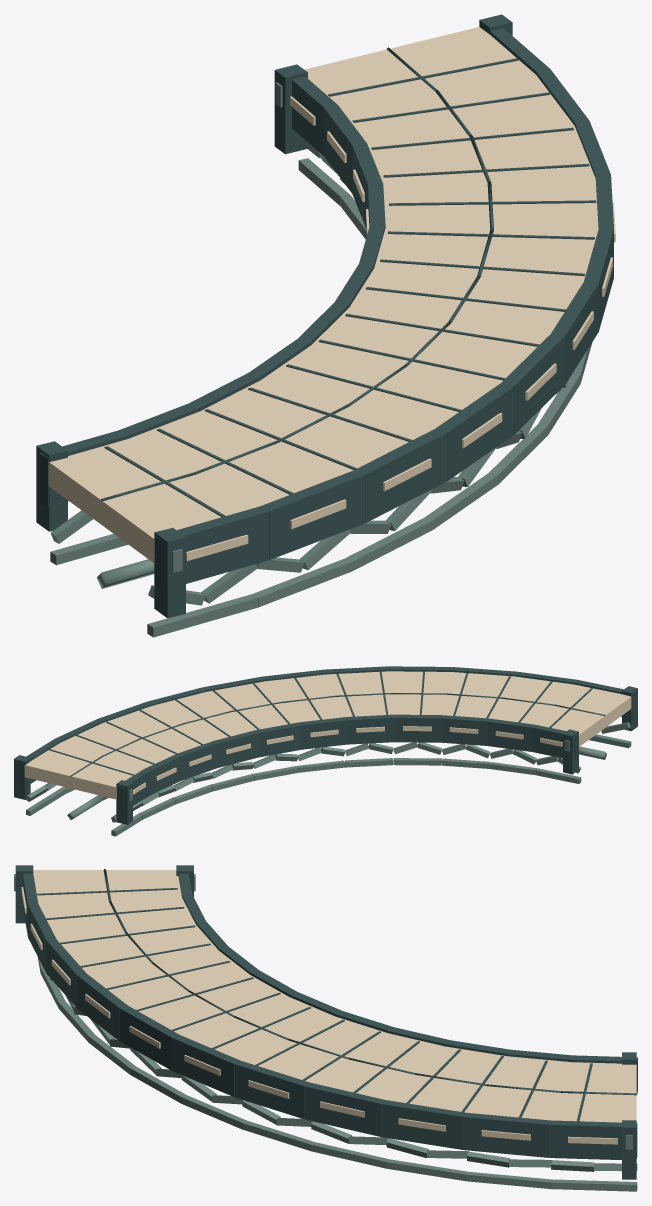
The model's file is Curve_W90_lab2.glb.
3 views of the same model, one above another, from view 1: azimuth 30°, elevation 25°; view 2: azimuth 150°, elevation 25°; view 3: azimuth 270°, elevation 25° (orthographic). The views are drawn at different scales.
Parts seen in each view (by area): view 1: Curve_W90; view 2: Curve_W90; view 3: Curve_W90.
Boxes of the visible parts, left/top/right/bottom form: Curve_W90: left=36, top=14, right=615, bottom=637; Curve_W90: left=14, top=666, right=637, bottom=836; Curve_W90: left=14, top=865, right=637, bottom=1191.
Size of the model in its own units: 11.95 by 1.52 by 11.95.
